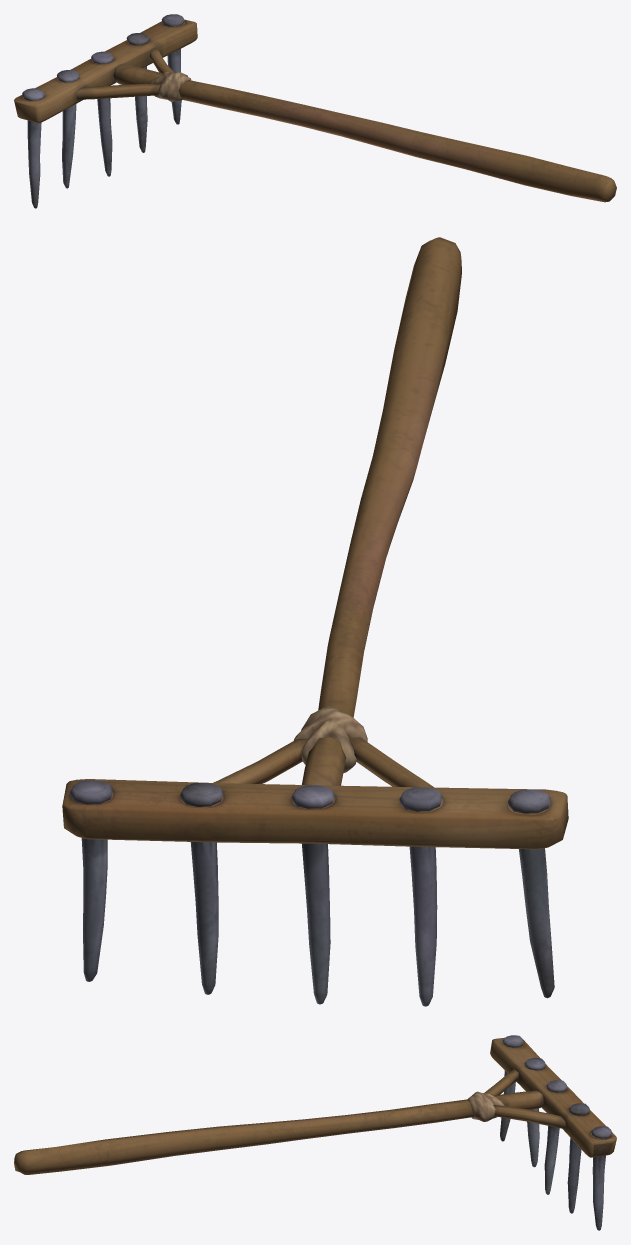
File: Rake_Basic.fbx
3 renders of one model, top to bottom at view 1: azimuth 30°, elevation 25°; view 2: azimuth 150°, elevation 25°; view 3: azimuth 270°, elevation 25°, orthographic. The views are drawn at different scales.
Visible parts, largest first — view 1: Rake_Basic; view 2: Rake_Basic; view 3: Rake_Basic.
Part boxes in pixels (box(x1,y1,x2,y2)): Rake_Basic: box(14, 14, 616, 208); Rake_Basic: box(62, 237, 568, 1006); Rake_Basic: box(14, 1035, 616, 1230).
Size of the model in its own units: 86.11 by 37.01 by 142.
